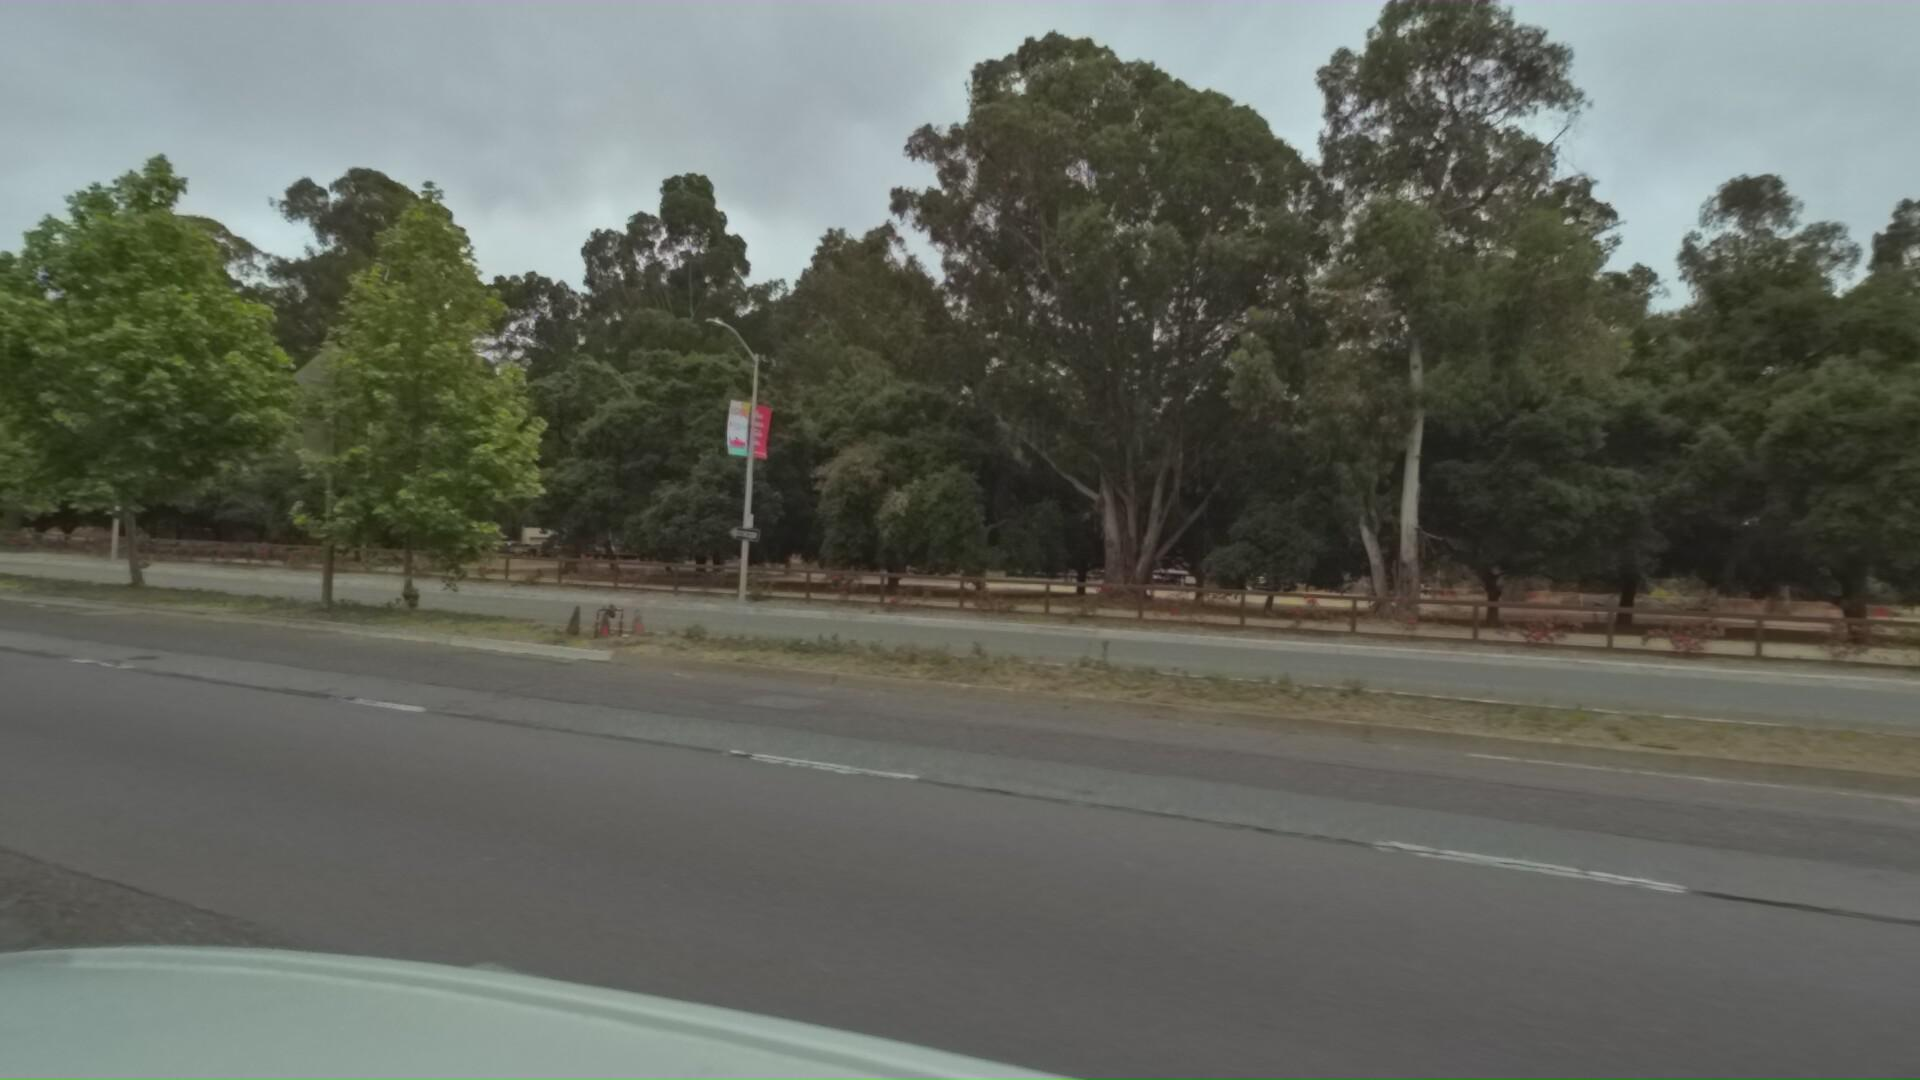car: (0, 509, 7, 698)
